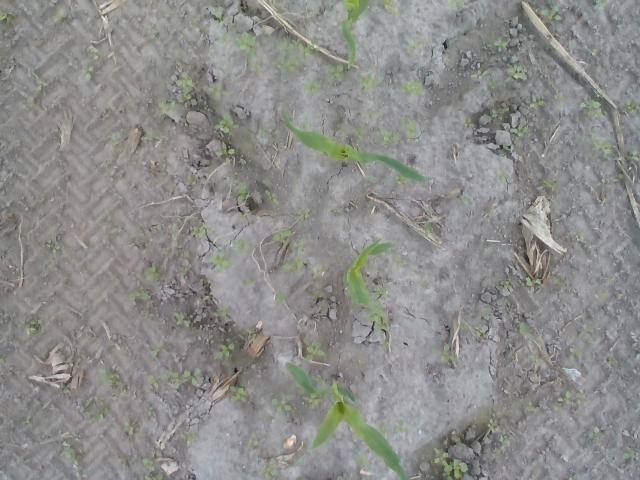Maize: (286, 360, 412, 480), (282, 113, 432, 183), (342, 238, 392, 328), (337, 0, 375, 71)
Weeds: (274, 34, 317, 76), (470, 64, 528, 88), (115, 455, 168, 480), (432, 446, 468, 480), (97, 367, 132, 399), (146, 370, 198, 390), (218, 30, 258, 56), (575, 136, 617, 160), (264, 396, 296, 425), (578, 96, 609, 120), (85, 396, 113, 422), (206, 335, 233, 361), (431, 343, 462, 365), (302, 334, 328, 360), (208, 246, 233, 273), (354, 71, 385, 92), (177, 70, 194, 104), (255, 458, 281, 480), (214, 144, 240, 166), (82, 46, 98, 80), (518, 274, 540, 296), (216, 114, 240, 134), (62, 438, 79, 466), (15, 319, 41, 337), (272, 226, 296, 245), (156, 98, 178, 118), (554, 390, 575, 410), (203, 82, 230, 97), (538, 175, 558, 195), (398, 79, 423, 95), (143, 262, 161, 284), (405, 38, 427, 56), (280, 256, 304, 272), (326, 62, 346, 81), (230, 183, 250, 202), (234, 236, 252, 256), (379, 127, 400, 144), (226, 386, 248, 402), (302, 392, 324, 408), (402, 117, 418, 139), (173, 312, 193, 329), (540, 6, 562, 21), (302, 78, 320, 96), (126, 290, 152, 302), (192, 222, 210, 239), (149, 18, 161, 41), (381, 0, 398, 16), (40, 240, 60, 253), (496, 168, 512, 184), (312, 264, 328, 280), (0, 9, 17, 24), (508, 124, 529, 136), (266, 190, 280, 208), (396, 420, 411, 436), (529, 95, 545, 110), (123, 424, 140, 438), (184, 430, 198, 447), (492, 106, 509, 120), (245, 432, 258, 450), (624, 448, 640, 462), (295, 206, 311, 220), (35, 78, 47, 96), (312, 372, 327, 386), (494, 38, 509, 52), (143, 130, 160, 142), (446, 0, 466, 10), (144, 406, 158, 420), (355, 452, 370, 465), (625, 148, 640, 161), (462, 115, 477, 128), (486, 417, 498, 433), (293, 238, 305, 254), (352, 126, 369, 137), (552, 275, 566, 288), (56, 8, 69, 22), (150, 344, 162, 359), (240, 278, 258, 288), (377, 286, 394, 296), (185, 173, 198, 186), (518, 322, 530, 336), (19, 416, 33, 428), (498, 434, 512, 446), (626, 100, 640, 112), (608, 174, 624, 184), (575, 232, 585, 248), (217, 306, 230, 318), (554, 95, 568, 106), (499, 278, 514, 288), (255, 128, 270, 138), (394, 254, 402, 272), (103, 214, 112, 230), (335, 472, 353, 480), (367, 110, 385, 118), (274, 293, 286, 305), (250, 62, 263, 73), (394, 174, 408, 184), (479, 311, 494, 320), (329, 207, 344, 216), (464, 194, 476, 205), (526, 401, 538, 412), (528, 352, 540, 362), (568, 351, 583, 359), (424, 222, 434, 234), (62, 382, 72, 394), (592, 430, 604, 440), (216, 13, 226, 25), (594, 0, 608, 8), (474, 324, 484, 335), (298, 119, 310, 128), (112, 134, 120, 146), (607, 357, 617, 366), (367, 174, 376, 184), (374, 424, 385, 432), (460, 320, 468, 330), (591, 48, 601, 56), (419, 280, 426, 290), (0, 352, 5, 366), (616, 292, 624, 300), (568, 474, 576, 480)
